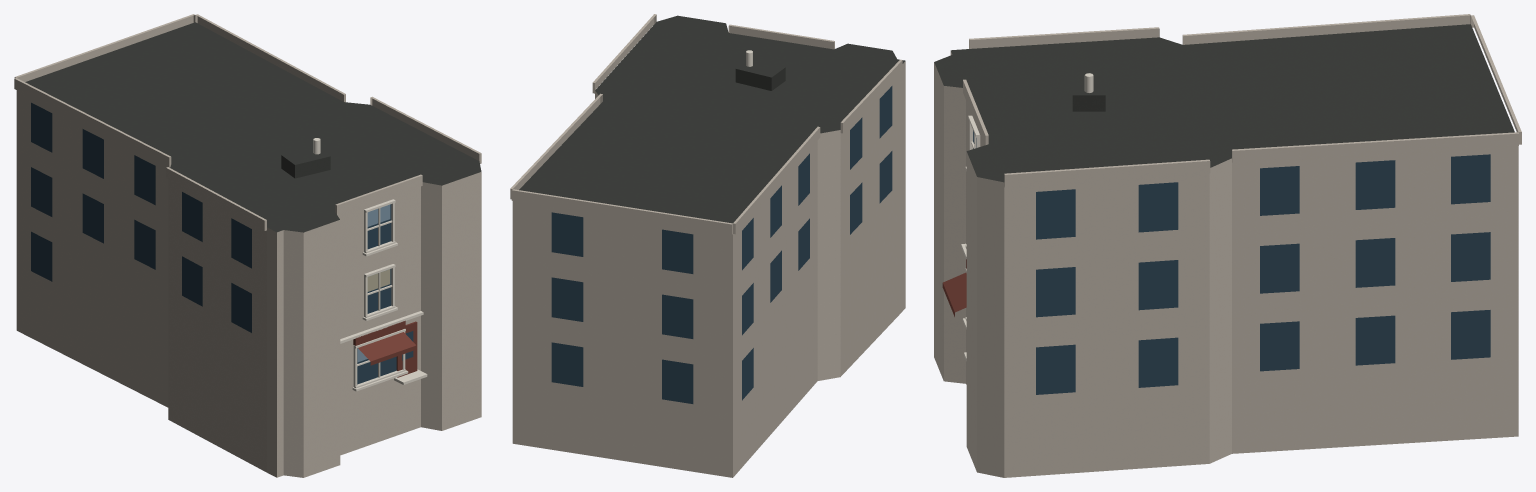
3 views of the same model, side by side, from view 1: azimuth 30°, elevation 25°; view 2: azimuth 150°, elevation 25°; view 3: azimuth 270°, elevation 25° (orthographic). The views are drawn at different scales.
Visible parts, largest first — view 1: Footprint 0 / surface 2, Footprint 0 / surface 1, Inset glazing, Facade bay volumes, Cornices and window frames, Storefronts and doors, Inferred rooftop service enclosure / surface 5; view 2: Footprint 0 / surface 2, Footprint 0 / surface 1, Inset glazing, Facade bay volumes, Inferred rooftop service enclosure / surface 6, Inferred rooftop service enclosure / surface 3; view 3: Footprint 0 / surface 2, Footprint 0 / surface 1, Inset glazing, Facade bay volumes, Storefronts and doors.
Boxes of the visible parts, x1=… form: Footprint 0 / surface 2: x1=16, y1=90, x2=481, y2=477; Footprint 0 / surface 1: x1=25, y1=22, x2=481, y2=232; Inset glazing: x1=31, y1=102, x2=413, y2=384; Facade bay volumes: x1=14, y1=14, x2=481, y2=230; Cornices and window frames: x1=340, y1=199, x2=427, y2=391; Storefronts and doors: x1=353, y1=320, x2=417, y2=377; Inferred rooftop service enclosure / surface 5: x1=295, y1=156, x2=330, y2=178; Footprint 0 / surface 2: x1=512, y1=61, x2=905, y2=477; Footprint 0 / surface 1: x1=519, y1=15, x2=905, y2=223; Inset glazing: x1=551, y1=86, x2=892, y2=403; Facade bay volumes: x1=510, y1=14, x2=902, y2=234; Inferred rooftop service enclosure / surface 6: x1=735, y1=69, x2=771, y2=90; Inferred rooftop service enclosure / surface 3: x1=736, y1=59, x2=784, y2=77; Footprint 0 / surface 2: x1=934, y1=51, x2=1518, y2=477; Footprint 0 / surface 1: x1=934, y1=24, x2=1514, y2=182; Inset glazing: x1=973, y1=130, x2=1490, y2=394; Facade bay volumes: x1=963, y1=14, x2=1521, y2=187; Storefronts and doors: x1=942, y1=259, x2=966, y2=316.
Bounding box in the file's own units: 13.77 × 13.09 × 21.24.
